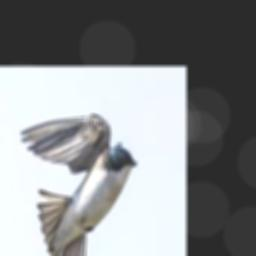Swallow: (20, 114, 137, 256)
